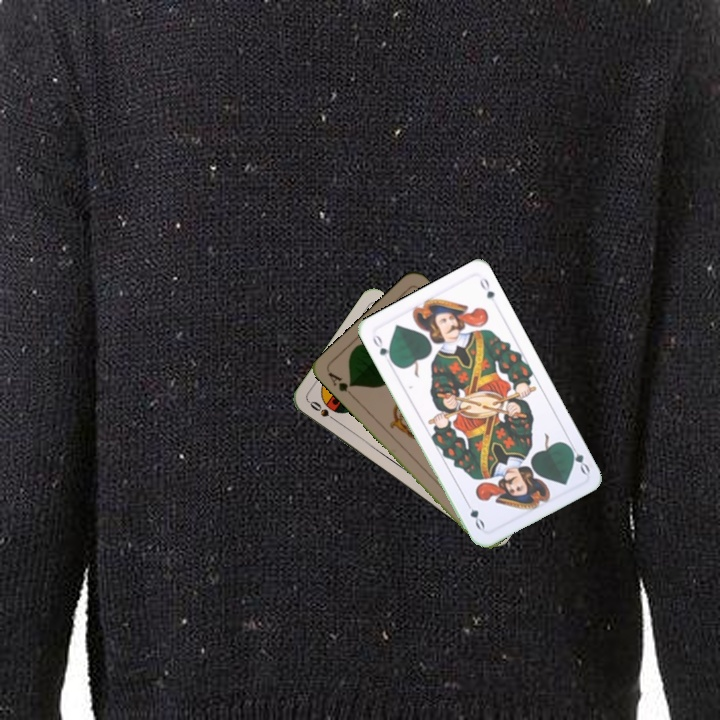GA: (324, 368, 357, 401)
GO: (563, 438, 593, 477), (368, 330, 396, 366)
SO: (306, 397, 341, 426)
